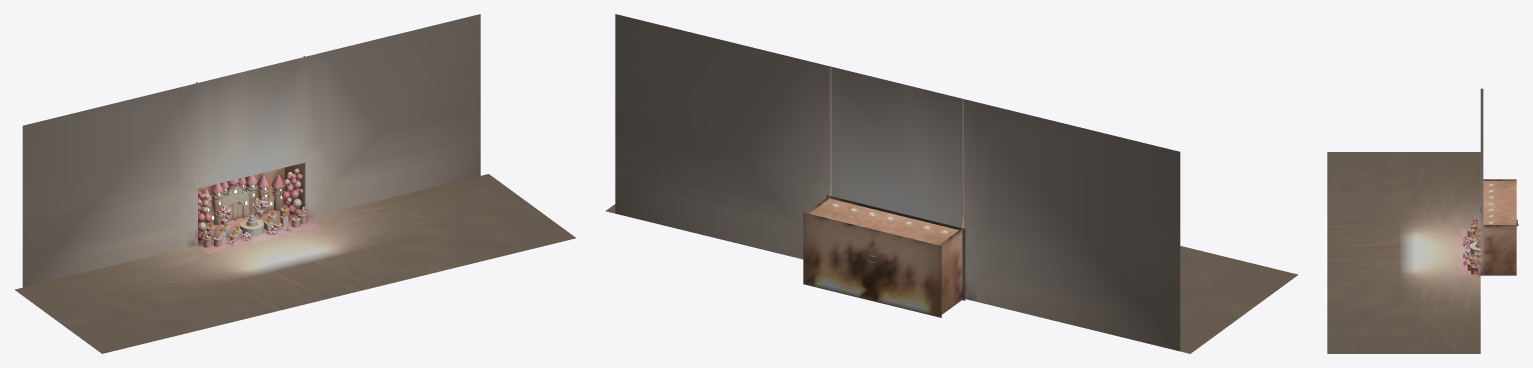
The model's file is hall-low.glb.
3 renders of one model, left to right at view 1: azimuth 30°, elevation 25°; view 2: azimuth 150°, elevation 25°; view 3: azimuth 270°, elevation 25°, orthographic. The views are drawn at different scales.
Visible parts, largest first — view 1: W_Room, W_Floor, W_Backdrop, W_Table, W_HallFlowers, W_Balloons_R, W_Balloons_L; view 2: W_Room, W_Floor; view 3: W_Floor, W_Room, W_Table, W_HallFlowers.
Part boxes in pixels (bbox=[...]): W_Room: bbox=[22, 14, 480, 287]; W_Floor: bbox=[15, 174, 576, 353]; W_Backdrop: bbox=[198, 170, 285, 227]; W_Table: bbox=[202, 205, 307, 247]; W_HallFlowers: bbox=[201, 197, 307, 245]; W_Balloons_R: bbox=[282, 168, 303, 215]; W_Balloons_L: bbox=[198, 191, 211, 240]; W_Room: bbox=[615, 14, 1180, 351]; W_Floor: bbox=[605, 204, 1298, 353]; W_Floor: bbox=[1327, 152, 1480, 353]; W_Room: bbox=[1456, 88, 1516, 277]; W_Table: bbox=[1467, 224, 1480, 274]; W_HallFlowers: bbox=[1462, 218, 1478, 266].
Size of the model in its own units: 92 by 30.02 by 36.78.
